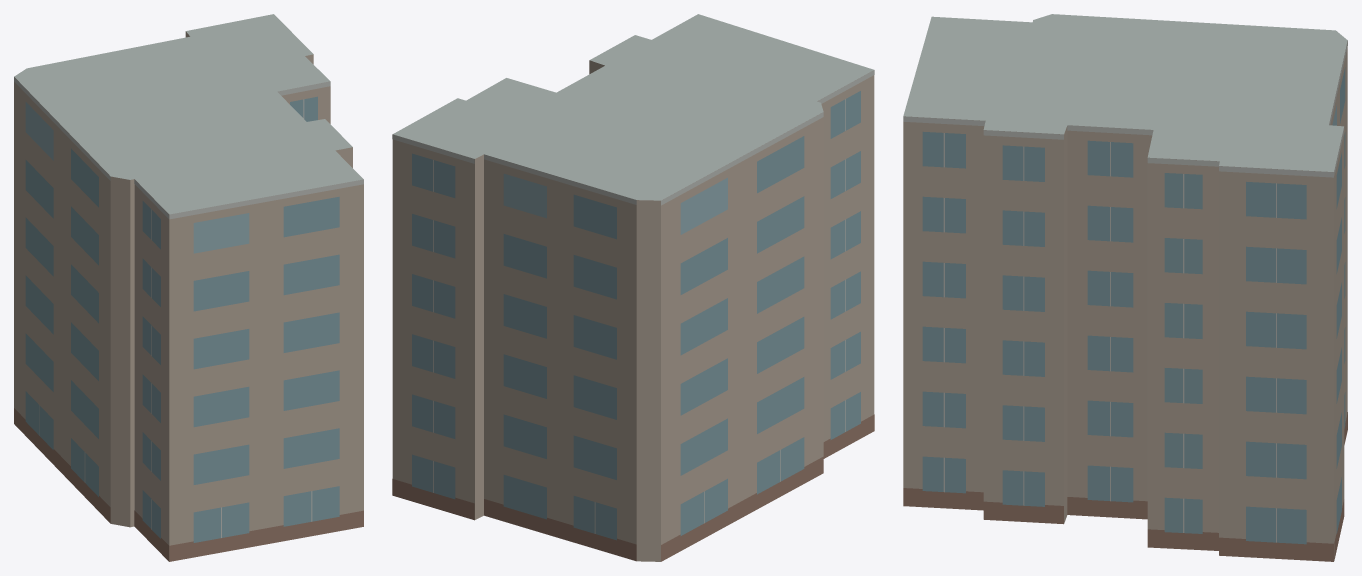
Rendered from survey-upis-32491427.glb.
The picture shows the model from 3 angles, left to right: view 1: azimuth 30°, elevation 25°; view 2: azimuth 150°, elevation 25°; view 3: azimuth 270°, elevation 25°; orthographic projection. The views are drawn at different scales.
Parts seen in each view (by area): view 1: survey-upis-32491427.tmp; view 2: survey-upis-32491427.tmp; view 3: survey-upis-32491427.tmp.
Part boxes in pixels (x1,y1,x2,y2): survey-upis-32491427.tmp: [14, 14, 363, 561]; survey-upis-32491427.tmp: [392, 14, 874, 561]; survey-upis-32491427.tmp: [903, 14, 1347, 561].
Size of the model in its own units: 15.15 by 17.4 by 18.
